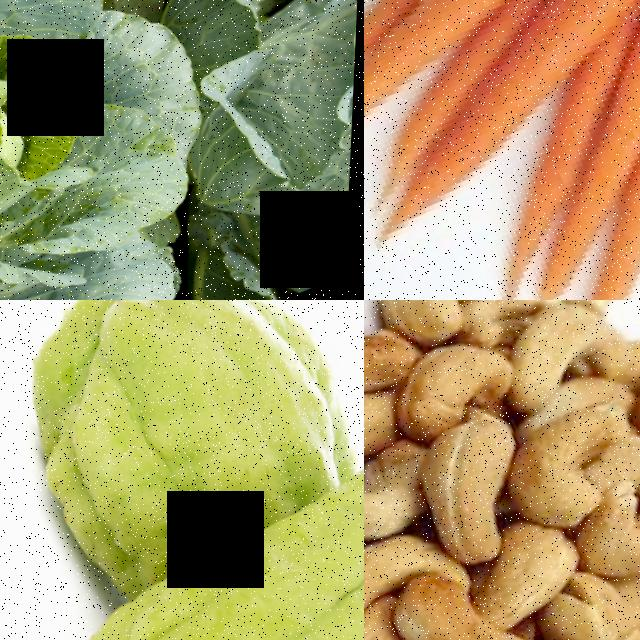cabbage: (0, 0, 245, 300)
cashew: (404, 389, 558, 580), (508, 378, 640, 525), (502, 300, 638, 405), (364, 511, 455, 640), (404, 561, 531, 640), (566, 464, 640, 597), (364, 448, 431, 569), (364, 312, 420, 456), (445, 300, 548, 351), (371, 300, 475, 340)
chayote: (0, 300, 364, 608), (0, 418, 364, 640)
